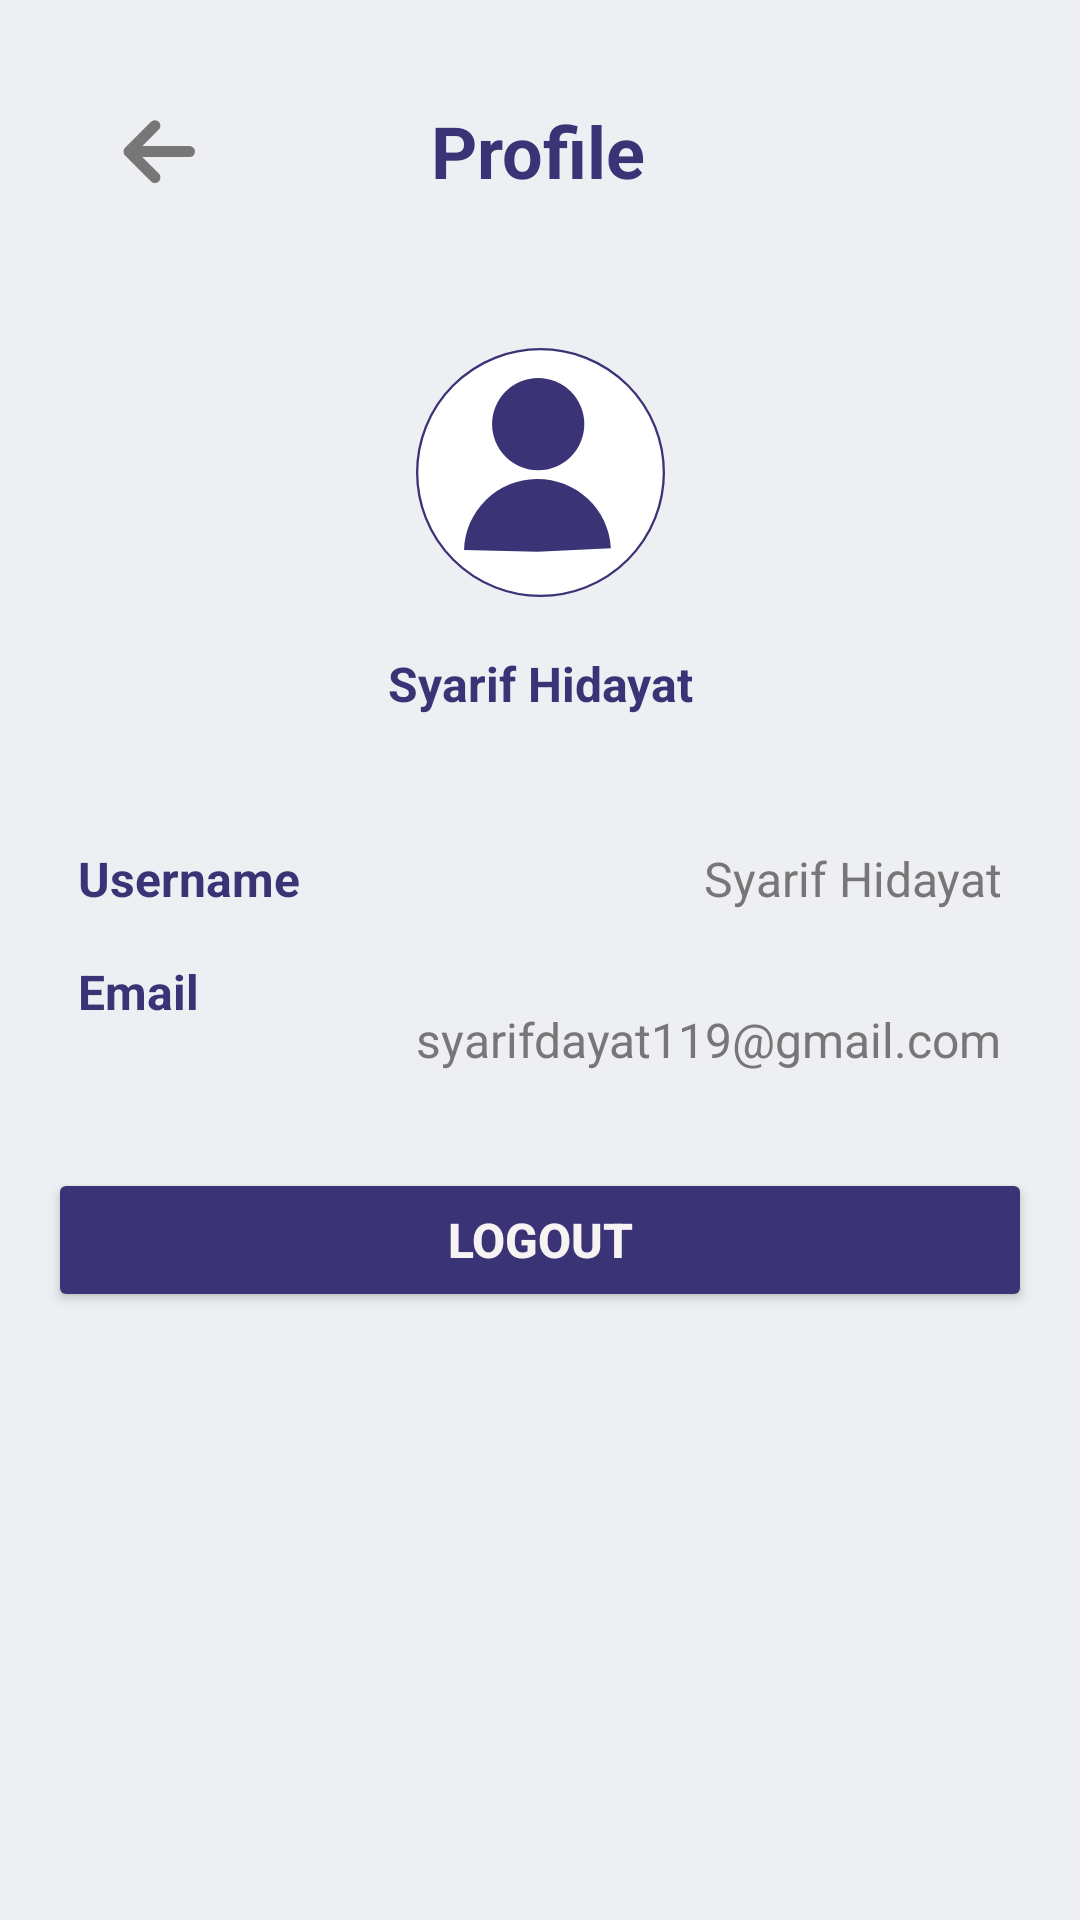

Named icons in this screenshot (1080*1920) and their centers, point (x, y):
Arrow: point (159, 151)
